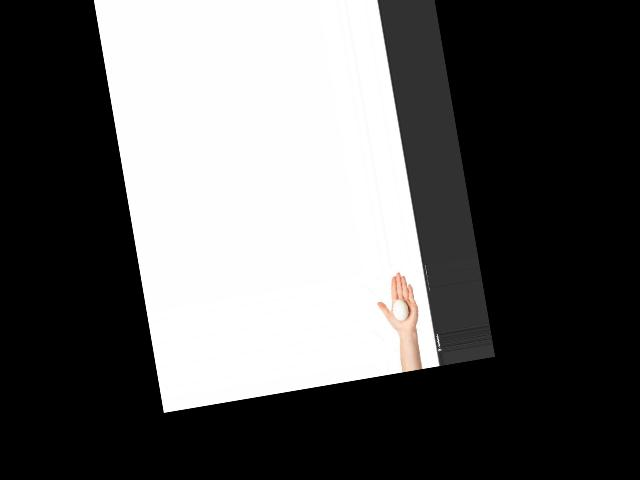egg: (391, 298, 409, 321)
